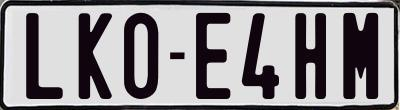0: (124, 13, 158, 99)
4: (240, 12, 279, 98)
E: (194, 12, 231, 102)
H: (295, 10, 327, 97)
K: (76, 13, 114, 102)
L: (24, 11, 65, 99)
M: (341, 13, 378, 99)
